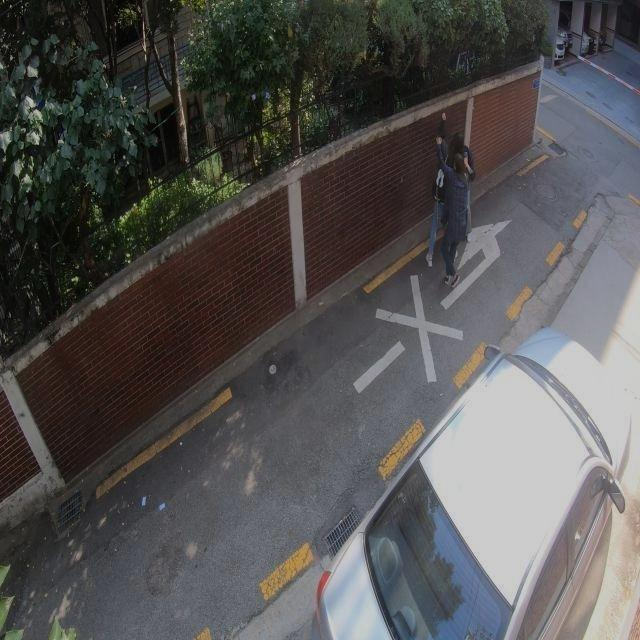fight: (420, 91, 476, 288)
